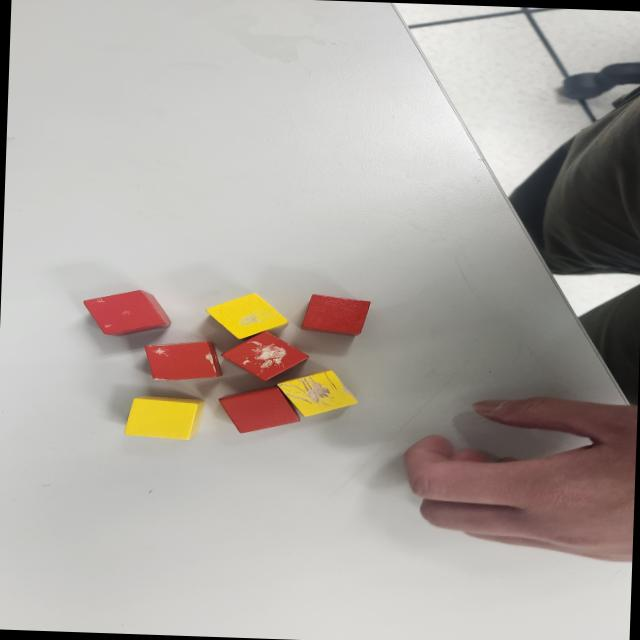broken: (218, 330, 310, 384), (81, 288, 172, 338), (204, 290, 291, 340), (276, 368, 360, 419), (142, 338, 224, 384)
red: (215, 384, 302, 436), (300, 294, 370, 336)
yellow: (122, 394, 205, 441)
